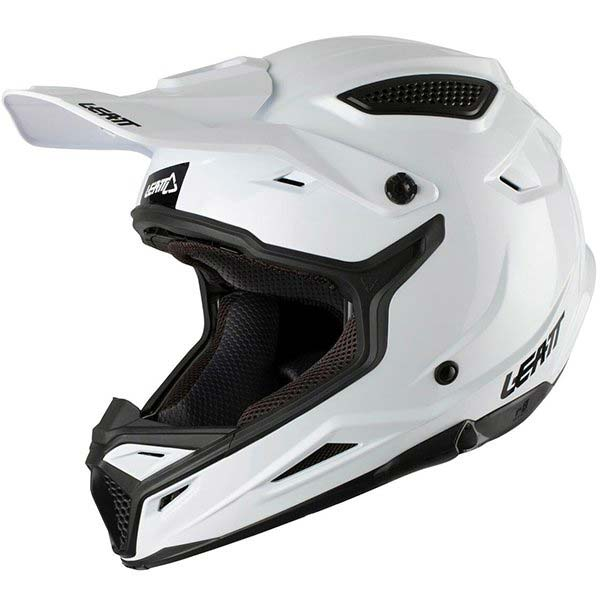with_helmet: (2, 33, 600, 571)
